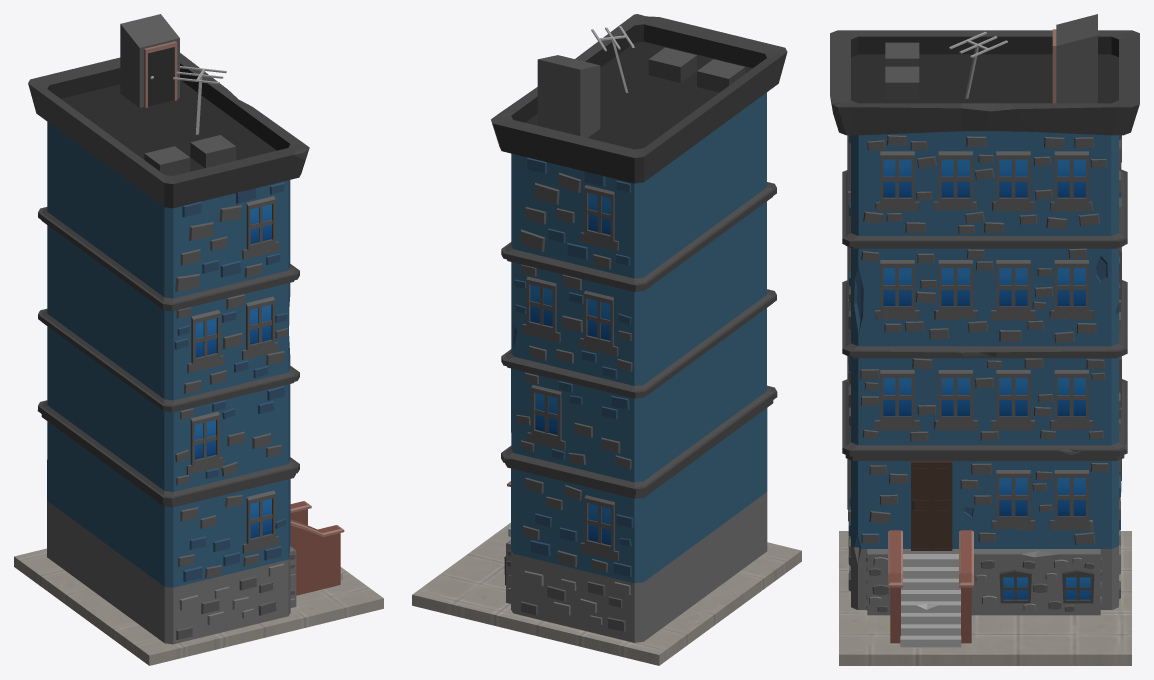
File: House_09.fbx
3 renders of one model, left to right at view 1: azimuth 30°, elevation 25°; view 2: azimuth 150°, elevation 25°; view 3: azimuth 270°, elevation 25°, orthographic. The views are drawn at different scales.
Visible parts, largest first — view 1: House_09; view 2: House_09; view 3: House_09.
Boxes of the visible parts, left/top/right/bottom form: House_09: left=14, top=14, right=383, bottom=665; House_09: left=412, top=14, right=801, bottom=665; House_09: left=830, top=14, right=1139, bottom=665.
Size of the model in its own units: 1200 by 2603 by 1269.
